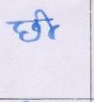i_matra: (37, 9, 57, 39)
